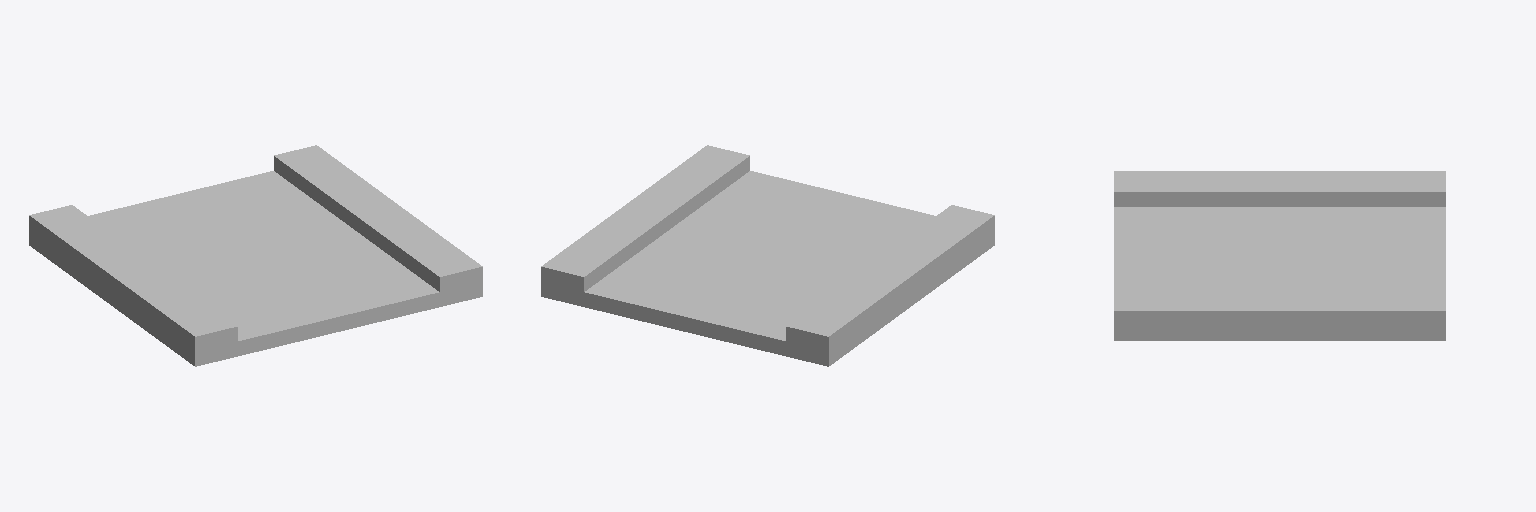
Rendered from Street Middle.obj.
3 views of the same model, side by side, from view 1: azimuth 30°, elevation 25°; view 2: azimuth 150°, elevation 25°; view 3: azimuth 270°, elevation 25° (orthographic).
Parts seen in each view (by area): view 1: object 1; view 2: object 1; view 3: object 1.
Boxes of the visible parts, x1,y1,x2,y2 form: object 1: [29, 145, 482, 366]; object 1: [541, 145, 994, 366]; object 1: [1114, 171, 1445, 340].
Size of the model in its own units: 4 by 0.4 by 4.